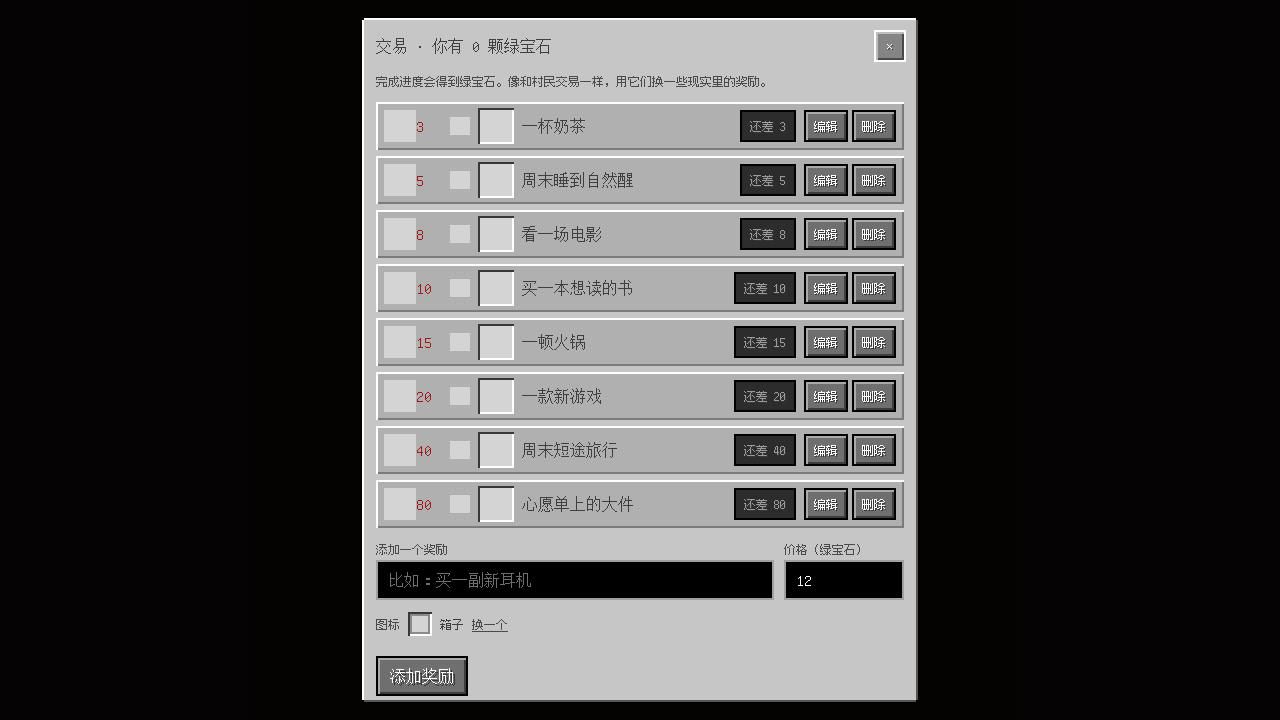
Test: TradeModal › ignores a second submit right after an add instead of asking for a name
Type "吃顿好的" into the field with placeholder "比如：买一副新耳机" at coordinates (575, 580), box [376,560,774,600]
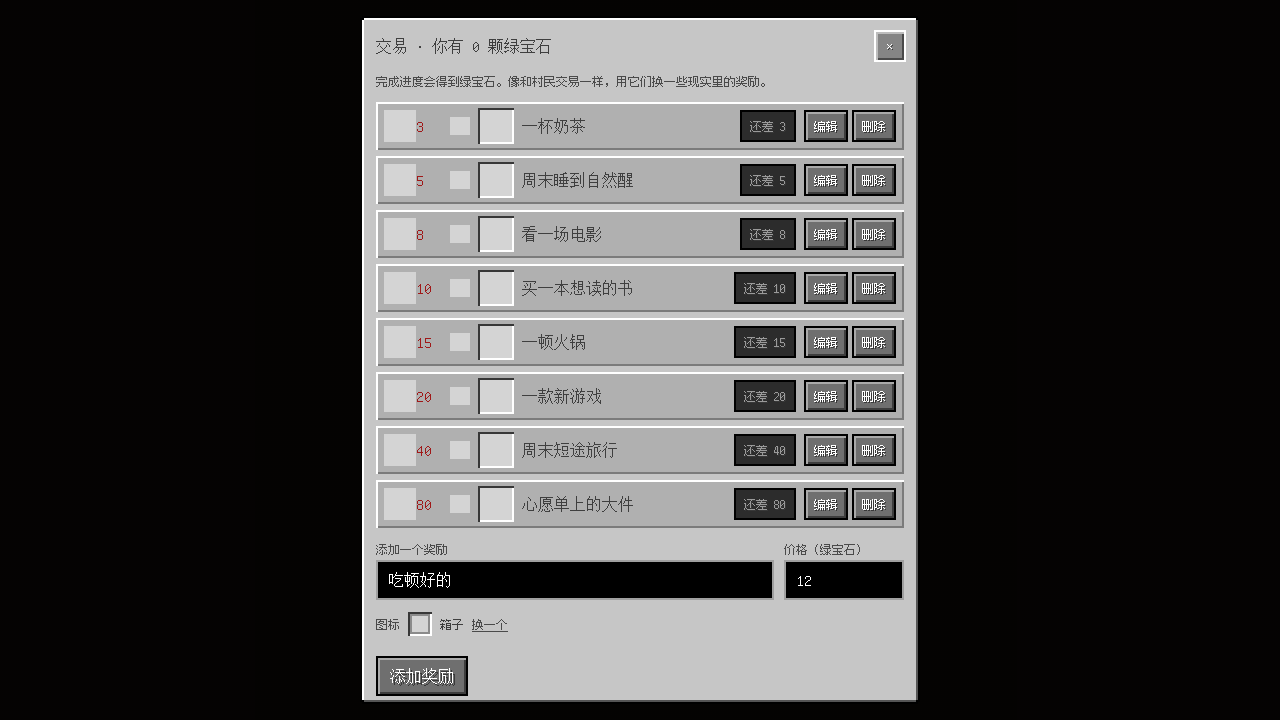
Submit the form, box [376,542,904,696]
(page scrolled)
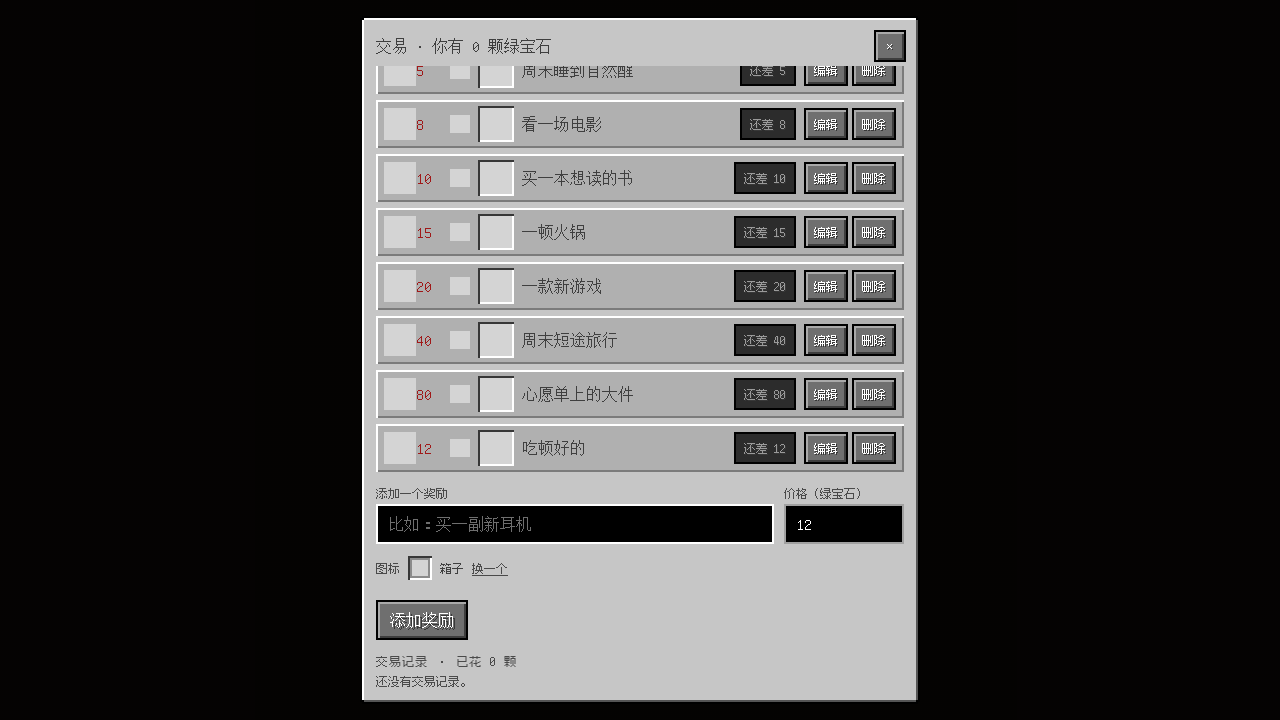
Submit the form, box [376,486,904,640]
Submit the form, box [376,486,904,640]
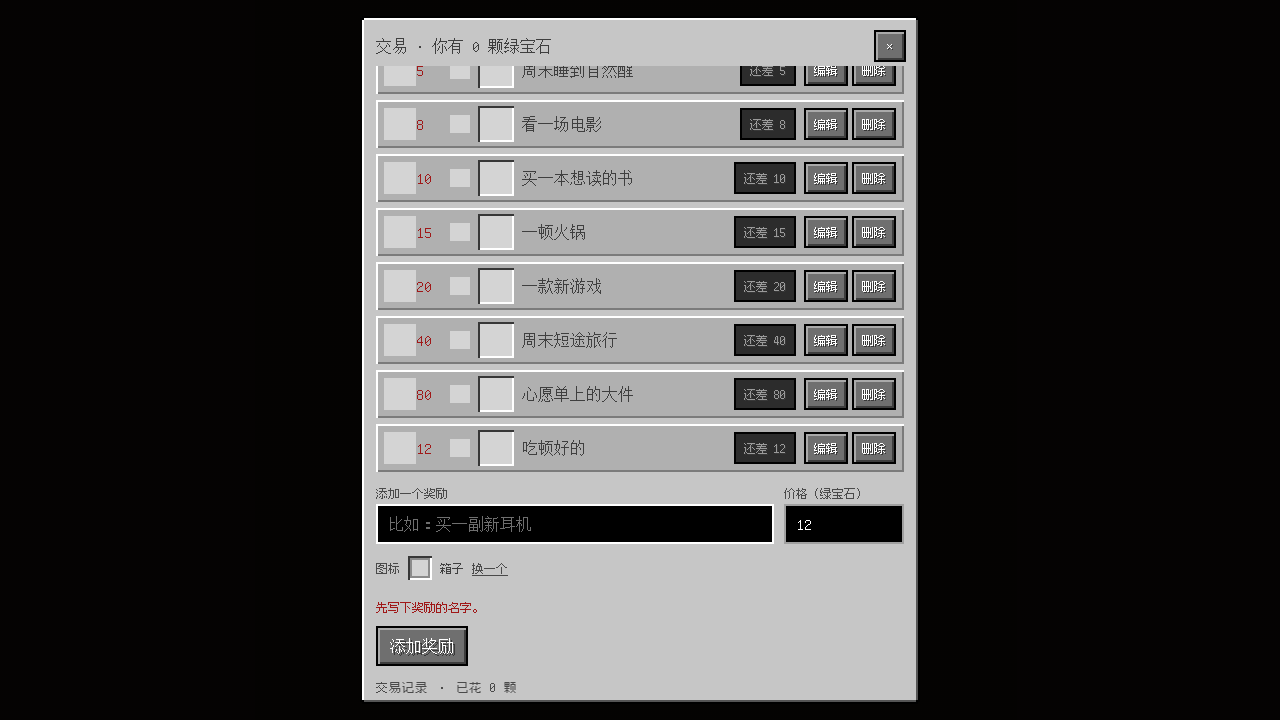
Expected: the message with class "ferr" reads "先写下奖励的名字。", [376,598,484,616]
